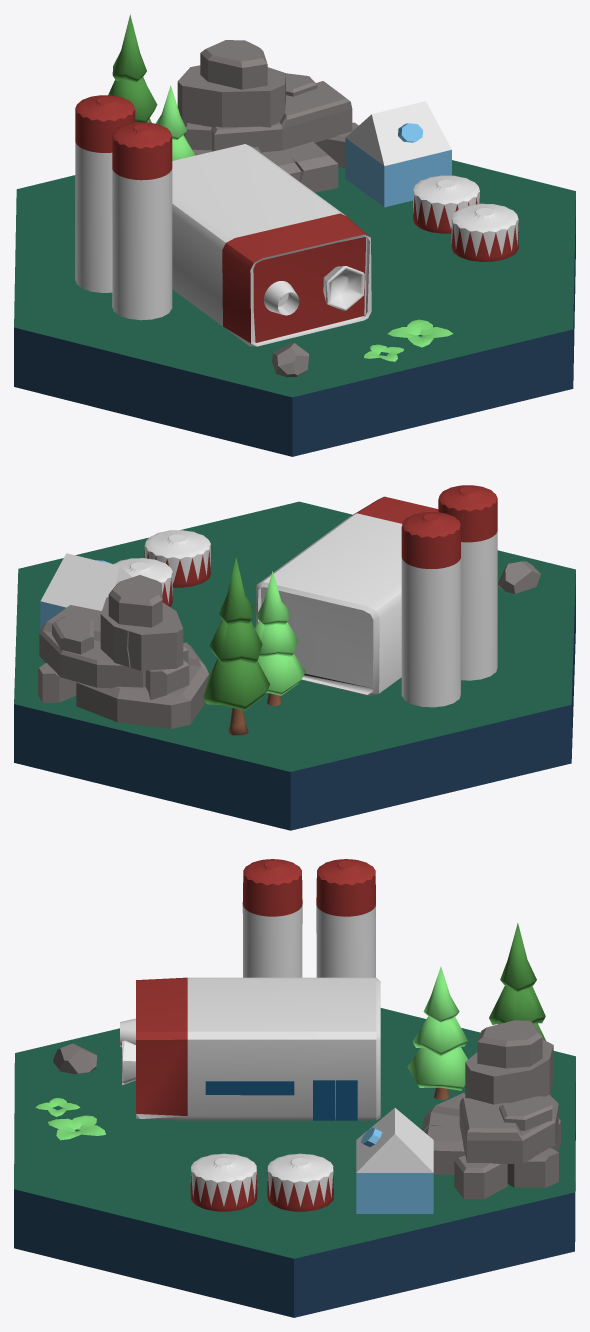
Rendered from Macro - Electric lvl 2 WM2.fbx.
The picture shows the model from 3 angles, top to bottom: view 1: azimuth 30°, elevation 25°; view 2: azimuth 150°, elevation 25°; view 3: azimuth 270°, elevation 25°; orthographic projection.
Visible parts, largest first — view 1: Cylinder.154, Cube battery.011, Rock Type1 02 mesh.013, Cylinder battery.004, milkbox1.011, Cylinder battery.005, Cylinder battery.002, Cylinder battery.001, Tree_Spruce_tiny_01.002, Tree_Spruce_tiny_01.001, Rock Type2 04 mesh.005, Plane.011; view 2: Cylinder.154, Cube battery.011, Rock Type1 02 mesh.013, Cylinder battery.005, Cylinder battery.004, Tree_Spruce_tiny_01.002, Tree_Spruce_tiny_01.001, milkbox1.011, Cylinder battery.002, Cylinder battery.001, Rock Type2 04 mesh.005; view 3: Cylinder.154, Cube battery.011, Rock Type1 02 mesh.013, milkbox1.011, Cylinder battery.004, Cylinder battery.005, Tree_Spruce_tiny_01.001, Cylinder battery.001, Cylinder battery.002, Tree_Spruce_tiny_01.002, Plane.002, Rock Type2 04 mesh.005 (+3 smaller).
Boxes of the visible parts, left/top/right/bottom form: Cylinder.154: left=14, top=160, right=575, bottom=456; Cube battery.011: left=172, top=144, right=371, bottom=346; Rock Type1 02 mesh.013: left=177, top=40, right=358, bottom=192; Cylinder battery.004: left=112, top=122, right=172, bottom=320; milkbox1.011: left=345, top=101, right=451, bottom=207; Cylinder battery.005: left=75, top=95, right=135, bottom=292; Cylinder battery.002: left=451, top=203, right=518, bottom=261; Cylinder battery.001: left=413, top=175, right=479, bottom=233; Tree_Spruce_tiny_01.002: left=108, top=14, right=157, bottom=122; Tree_Spruce_tiny_01.001: left=155, top=85, right=195, bottom=160; Rock Type2 04 mesh.005: left=272, top=343, right=309, bottom=377; Plane.011: left=387, top=319, right=453, bottom=347; Cylinder.154: left=14, top=501, right=575, bottom=830; Cube battery.011: left=256, top=496, right=438, bottom=695; Rock Type1 02 mesh.013: left=38, top=575, right=209, bottom=728; Cylinder battery.005: left=401, top=512, right=460, bottom=707; Cylinder battery.004: left=438, top=485, right=497, bottom=680; Tree_Spruce_tiny_01.002: left=203, top=557, right=269, bottom=735; Tree_Spruce_tiny_01.001: left=254, top=571, right=305, bottom=705; milkbox1.011: left=40, top=553, right=131, bottom=629; Cylinder battery.002: left=144, top=530, right=210, bottom=587; Cylinder battery.001: left=113, top=558, right=172, bottom=606; Rock Type2 04 mesh.005: left=497, top=561, right=540, bottom=593; Cylinder.154: left=14, top=1008, right=575, bottom=1317; Cube battery.011: left=120, top=977, right=380, bottom=1120; Rock Type1 02 mesh.013: left=422, top=1020, right=560, bottom=1199; milkbox1.011: left=356, top=1108, right=433, bottom=1213; Cylinder battery.004: left=242, top=859, right=302, bottom=977; Cylinder battery.005: left=316, top=859, right=375, bottom=977; Tree_Spruce_tiny_01.001: left=407, top=966, right=467, bottom=1100; Cylinder battery.001: left=267, top=1153, right=333, bottom=1211; Cylinder battery.002: left=190, top=1153, right=257, bottom=1211; Tree_Spruce_tiny_01.002: left=489, top=923, right=545, bottom=1040; Plane.002: left=205, top=1081, right=294, bottom=1095; Rock Type2 04 mesh.005: left=53, top=1043, right=96, bottom=1074.
Size of the model in its own units: 197 by 80.5 by 172.
